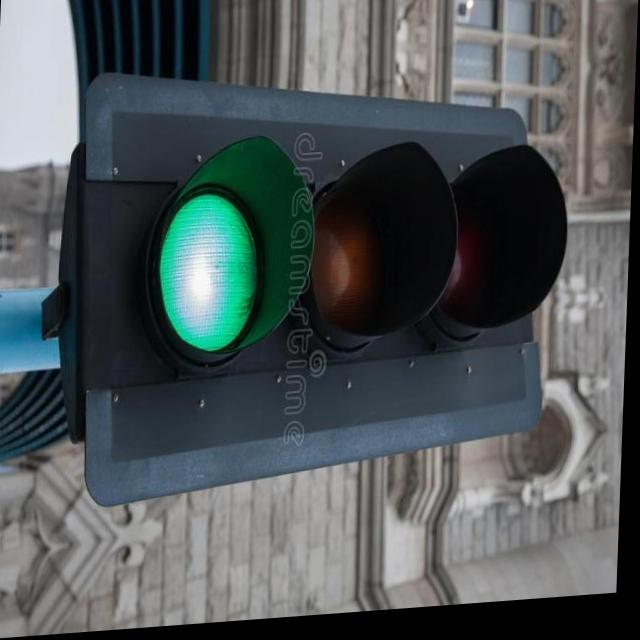green light: (106, 115, 580, 438)
